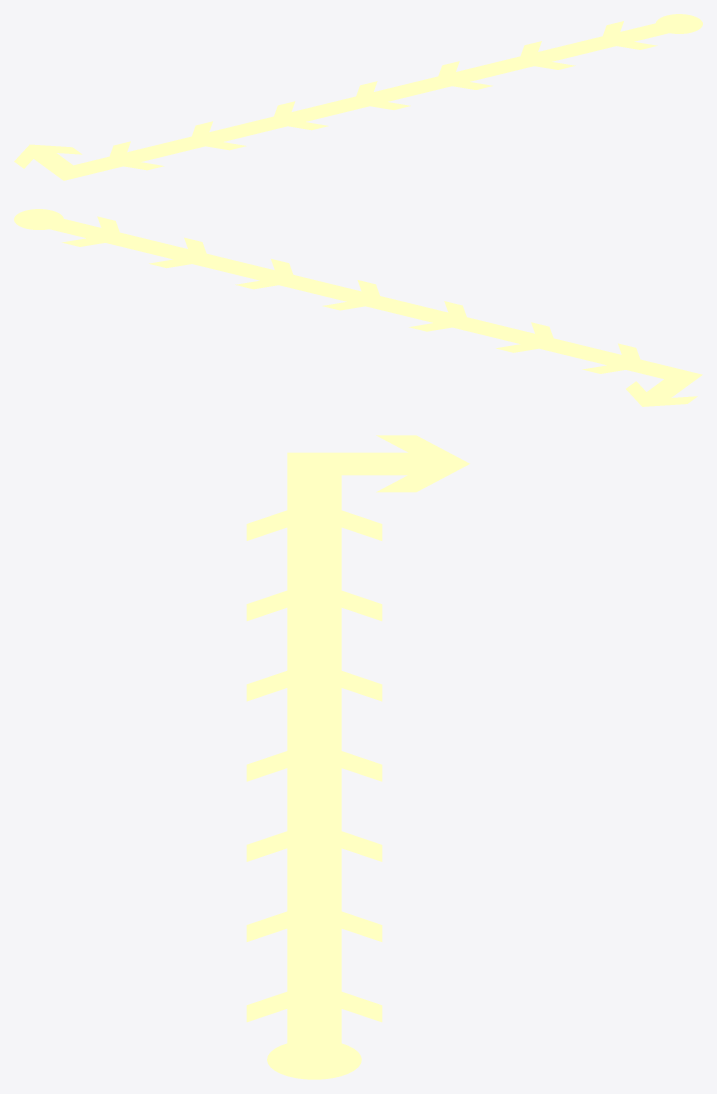
Rendered from Floor Guide UI.glb.
3 views of the same model, one above another, from view 1: azimuth 30°, elevation 25°; view 2: azimuth 150°, elevation 25°; view 3: azimuth 270°, elevation 25° (orthographic). The views are drawn at different scales.
Visible parts, largest first — view 1: Plane.001; view 2: Plane.001; view 3: Plane.001.
Part boxes in pixels (bbox=[...]): Plane.001: bbox=[14, 14, 702, 180]; Plane.001: bbox=[14, 209, 702, 406]; Plane.001: bbox=[246, 435, 469, 1079].
Size of the model in its own units: 11.25 by 0.00169 by 1.65.
